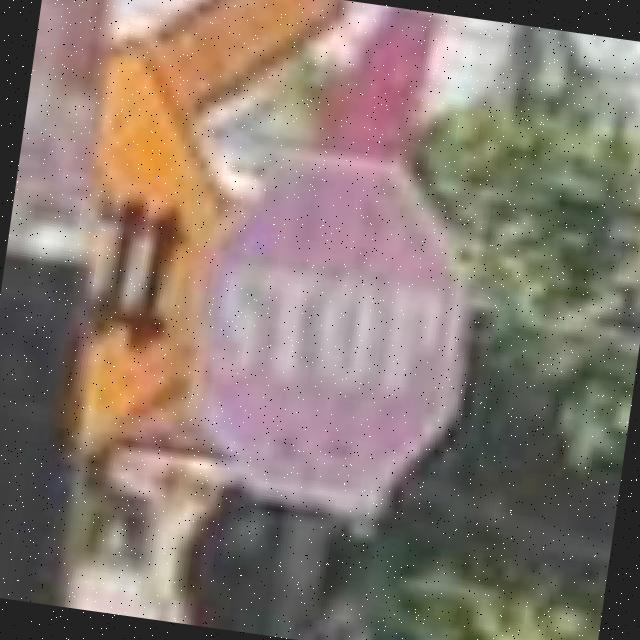Stop: (172, 147, 488, 524)
